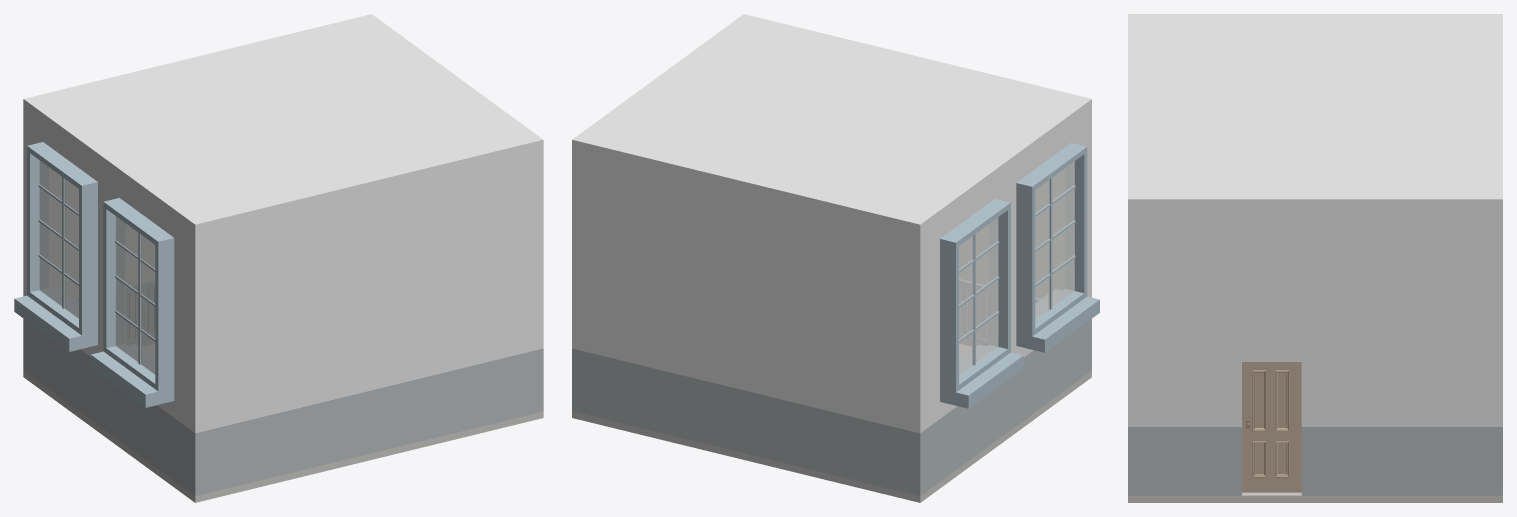
Rendered from 878_room.fbx.
3 renders of one model, left to right at view 1: azimuth 30°, elevation 25°; view 2: azimuth 150°, elevation 25°; view 3: azimuth 270°, elevation 25°, orthographic. The views are drawn at different scales.
Parts seen in each view (by area): view 1: 西壁, 天井, 北壁, 東壁, 床, 南壁; view 2: 東壁, 天井, 北壁, 西壁, 床; view 3: 南壁, 天井, 戸, 床, 東壁, 西壁.
Part boxes in pixels (x1=…): 西壁: x1=190, y1=148, x2=543, y2=495; 天井: x1=23, y1=14, x2=543, y2=231; 北壁: x1=14, y1=107, x2=204, y2=496; 東壁: x1=23, y1=106, x2=154, y2=374; 床: x1=23, y1=344, x2=543, y2=502; 南壁: x1=534, y1=146, x2=543, y2=413; 東壁: x1=572, y1=146, x2=925, y2=496; 天井: x1=572, y1=14, x2=1091, y2=231; 北壁: x1=911, y1=106, x2=1099, y2=495; 西壁: x1=959, y1=169, x2=1091, y2=374; 床: x1=572, y1=344, x2=1091, y2=502; 南壁: x1=1128, y1=206, x2=1502, y2=495; 天井: x1=1128, y1=14, x2=1502, y2=206; 戸: x1=1244, y1=362, x2=1299, y2=490; 床: x1=1128, y1=492, x2=1502, y2=502; 東壁: x1=1491, y1=206, x2=1502, y2=495; 西壁: x1=1128, y1=206, x2=1139, y2=495.
Size of the model in its own units: 595 by 420 by 470.
